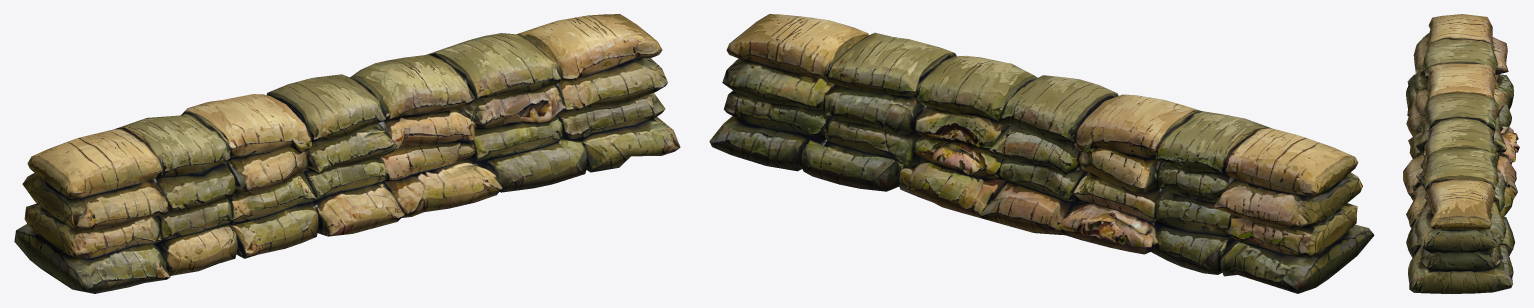
File: EX_Mil_Sandbags.fbx
The picture shows the model from 3 angles, left to right: view 1: azimuth 30°, elevation 25°; view 2: azimuth 150°, elevation 25°; view 3: azimuth 270°, elevation 25°; orthographic projection. The views are drawn at different scales.
Visible parts, largest first — view 1: texture_mapping; view 2: texture_mapping; view 3: texture_mapping.
Boxes of the visible parts, x1,y1,x2,y2 form: texture_mapping: [14, 14, 680, 293]; texture_mapping: [709, 14, 1374, 293]; texture_mapping: [1403, 14, 1519, 293].
Size of the model in its own units: 0.986 by 0.2359 by 0.1951.
1 material, 1 textured.
